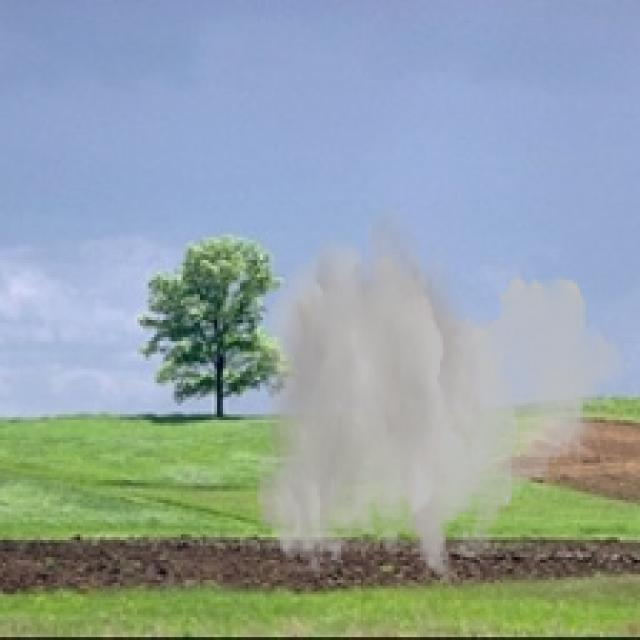smoke: (255, 191, 634, 580)
